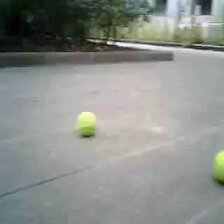tennis: (212, 150, 224, 184), (78, 112, 95, 135)
